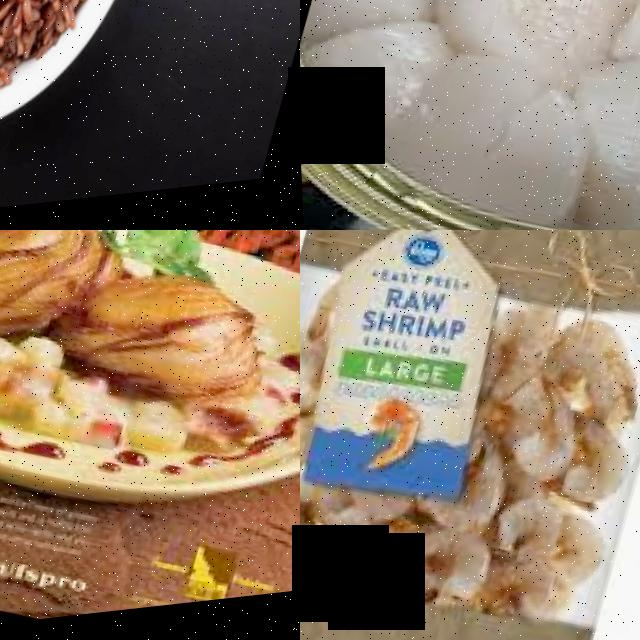red rice: (0, 0, 169, 141)
shrimp: (401, 525, 493, 624), (485, 495, 566, 581), (505, 410, 583, 496)
